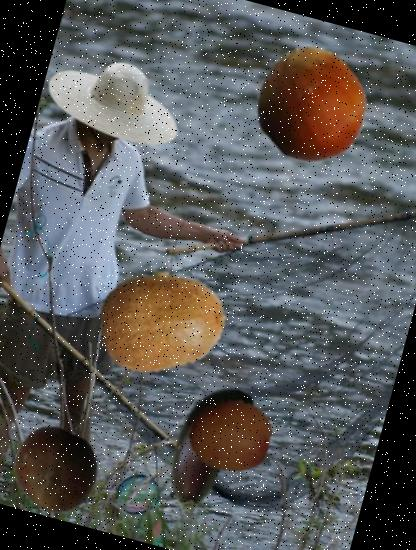Apricot: (180, 385, 283, 488)
Eggplant: (118, 360, 289, 531)
Kiwi: (84, 244, 242, 402)
Nut: (242, 35, 382, 176), (3, 419, 108, 522)
